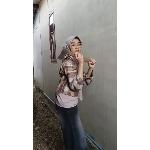Kapak: (56, 46, 94, 68)
